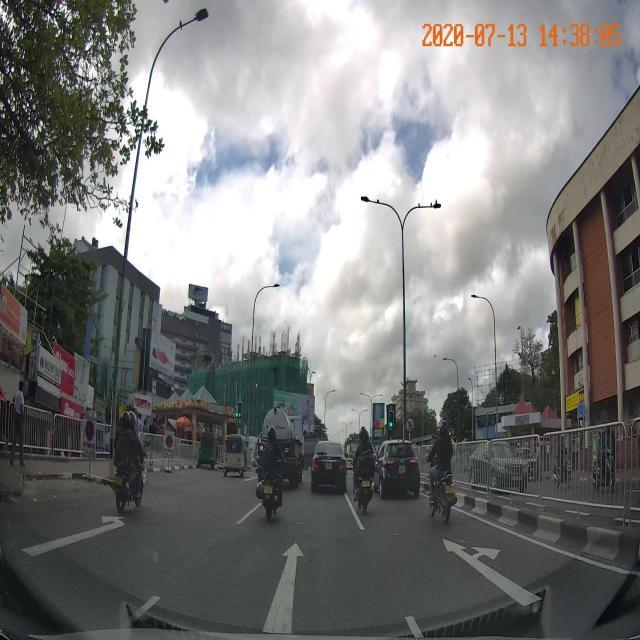forward: (129, 533, 430, 637)
